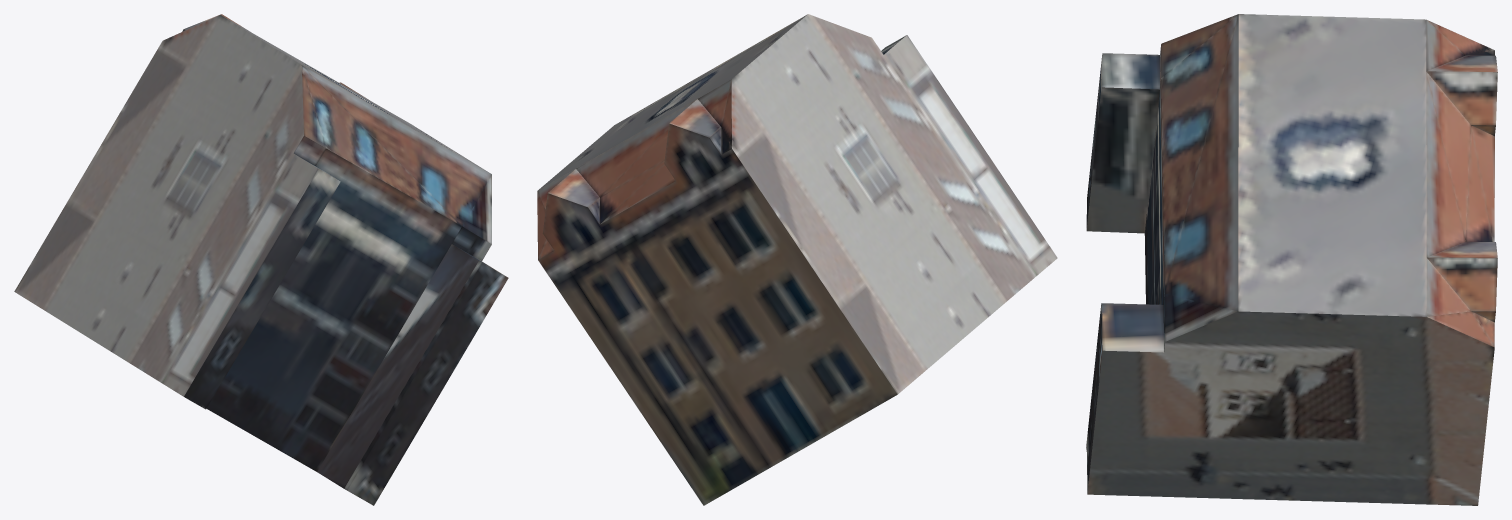
3 renders of one model, left to right at view 1: azimuth 30°, elevation 25°; view 2: azimuth 150°, elevation 25°; view 3: azimuth 270°, elevation 25°, orthographic. The views are drawn at different scales.
Visible parts, largest first — view 1: BAG_0599100000670815 (×4); view 2: BAG_0599100000670815 (×4); view 3: BAG_0599100000670815 (×4).
Boxes of the visible parts, box(x1,y1,x2,y2) form: BAG_0599100000670815 (×4): box(14, 14, 508, 505); BAG_0599100000670815 (×4): box(537, 14, 1057, 505); BAG_0599100000670815 (×4): box(1086, 14, 1497, 505).
Size of the model in its own units: 16.55 by 17.15 by 13.04.
Materials: 5 (5 with a texture image).
